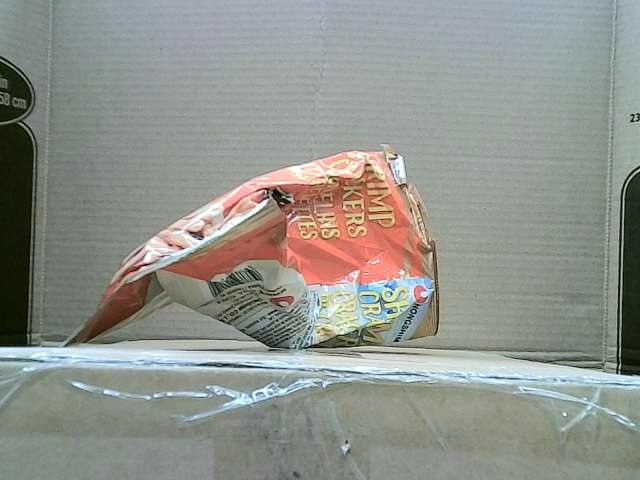Chips: (62, 144, 438, 351)
